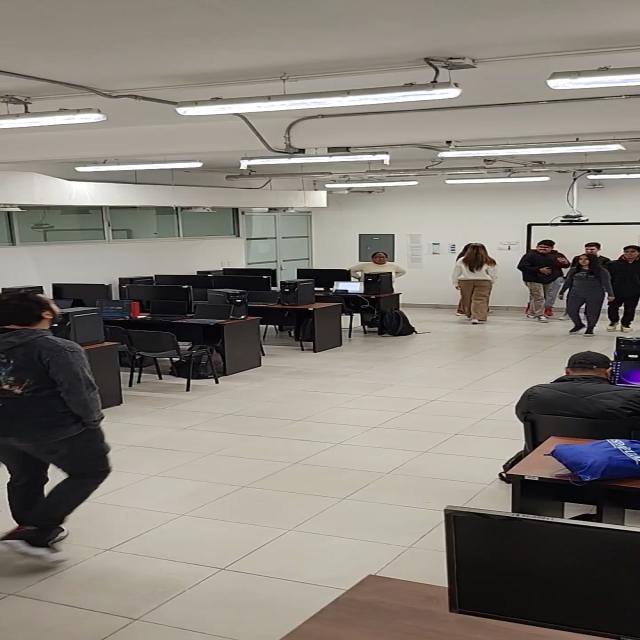Persona: (0, 287, 112, 559), (558, 252, 614, 338), (516, 240, 563, 323), (452, 242, 499, 324), (601, 244, 640, 333), (568, 241, 606, 264)
